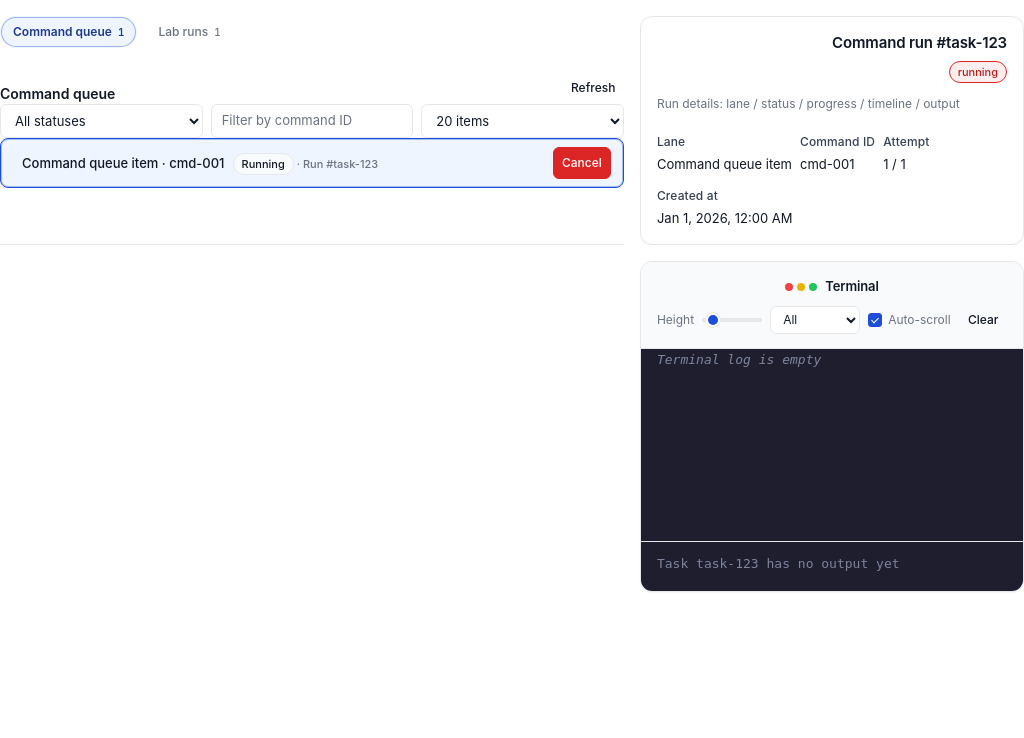
Test: TaskCenterView waiting state branches › keeps supplemental input flow for non-provider waiting_user
Click the tab "Lab runs 1" at (190, 32), box [145,16,234,48]
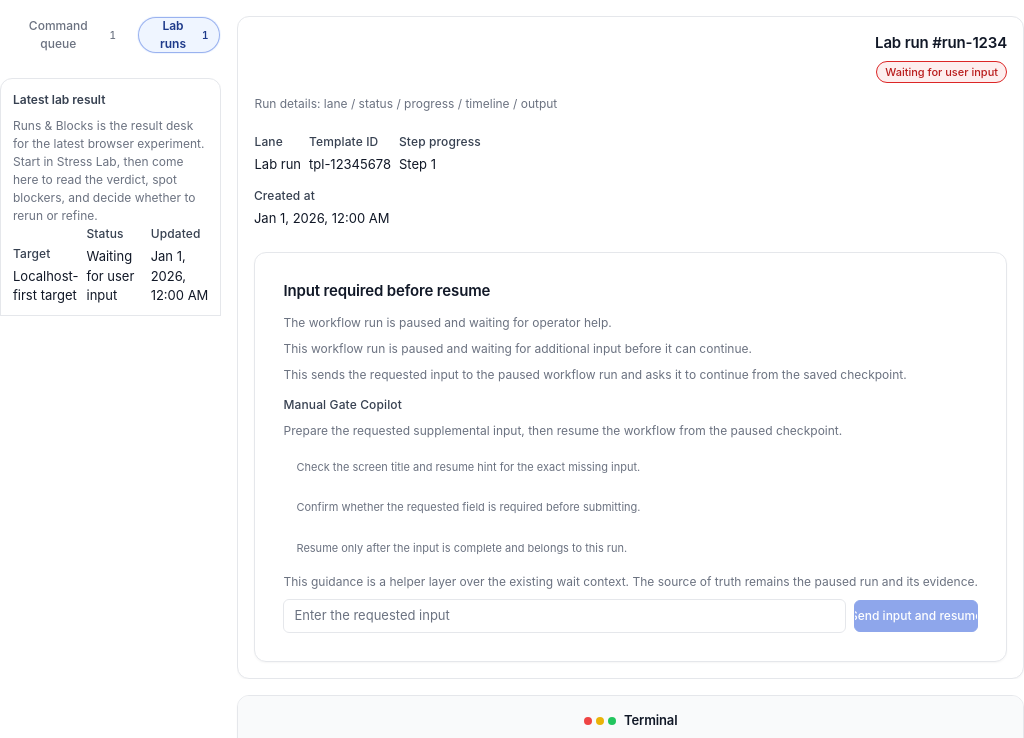
Check: the text "This workflow run is paused and waiting for additional input before it can continue." is shown, box [284,340,752,356]
Check: the text "This sends the requested input to the paused workflow run and asks it to continue from the saved checkpoint." is shown, box [284,366,907,382]
Check: the button "Send input and resume" is shown, box [854,600,978,632]
